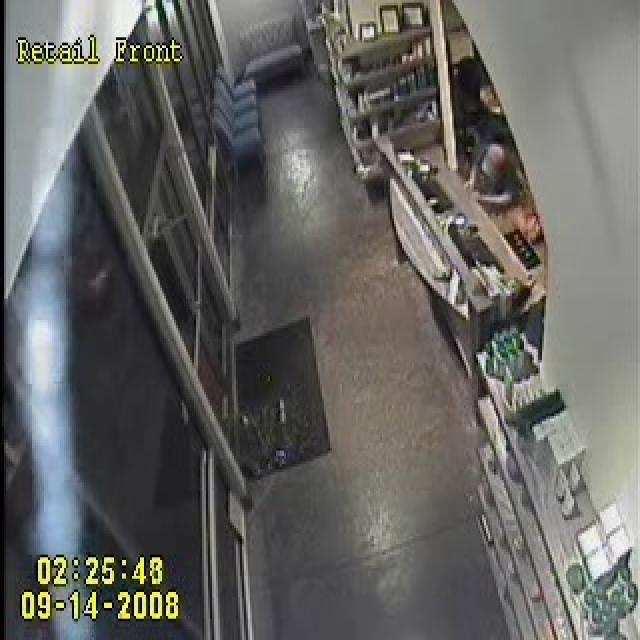thief: (458, 130, 538, 262)
